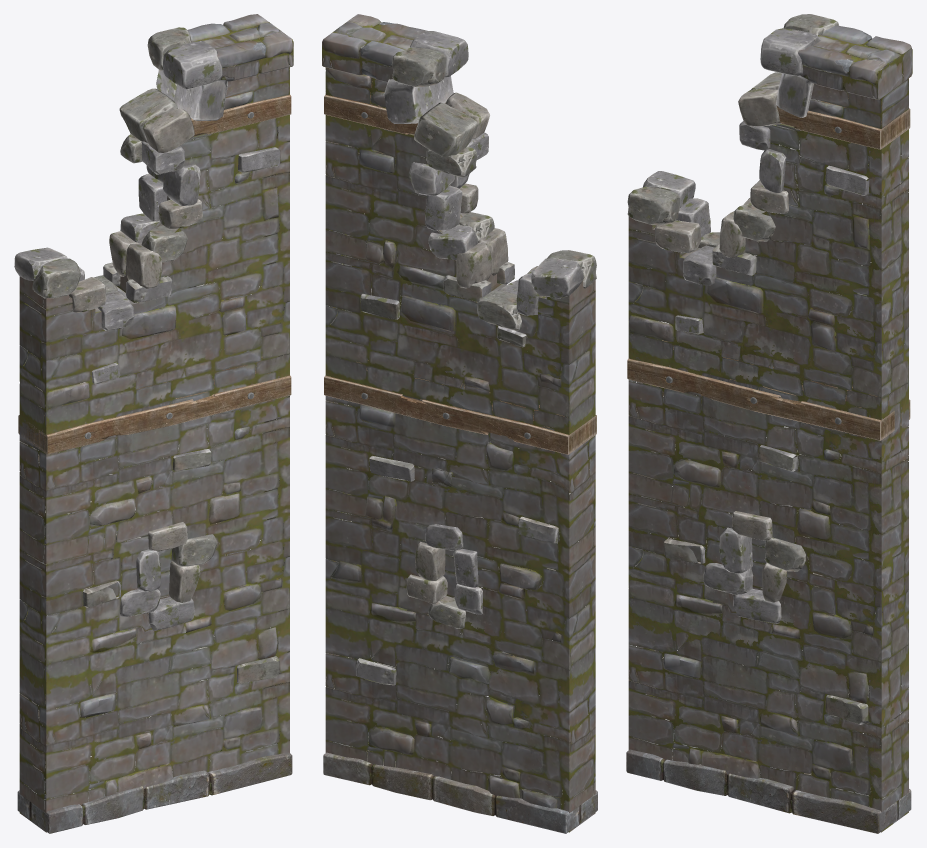
3 renders of one model, left to right at view 1: azimuth 30°, elevation 25°; view 2: azimuth 150°, elevation 25°; view 3: azimuth 330°, elevation 25°, orthographic. The views are drawn at different scales.
Visible parts, largest first — view 1: SM_Castle_Wall_4x12_01_Dmg_v2_LOD0; view 2: SM_Castle_Wall_4x12_01_Dmg_v2_LOD0; view 3: SM_Castle_Wall_4x12_01_Dmg_v2_LOD0.
Part boxes in pixels (box(x1,y1,x2,y2)): SM_Castle_Wall_4x12_01_Dmg_v2_LOD0: box(14, 14, 293, 833); SM_Castle_Wall_4x12_01_Dmg_v2_LOD0: box(322, 14, 597, 833); SM_Castle_Wall_4x12_01_Dmg_v2_LOD0: box(626, 14, 912, 833).
Bounding box in the file's own units: 4.05 × 11.62 × 1.17.
Materials: 5 (5 with a texture image).
